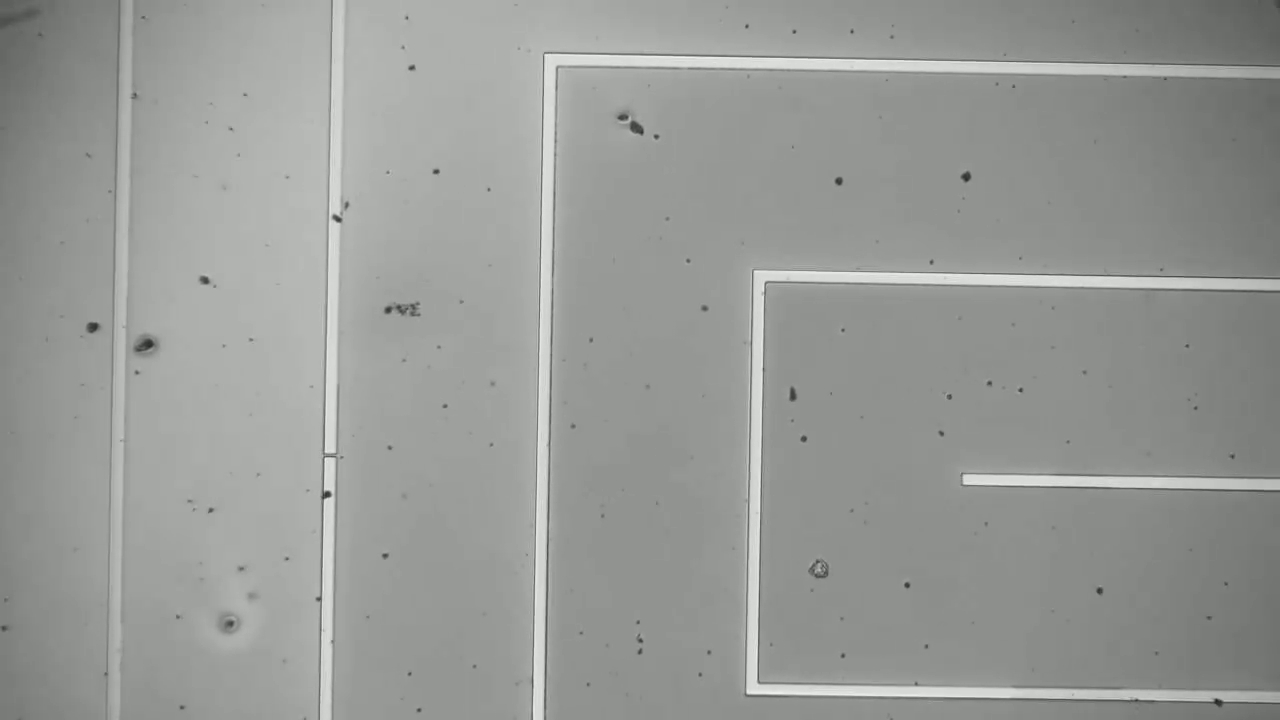open: (318, 440, 346, 468)
stains_enbedded: (1197, 675, 1240, 717), (314, 202, 352, 233), (315, 479, 349, 509)
